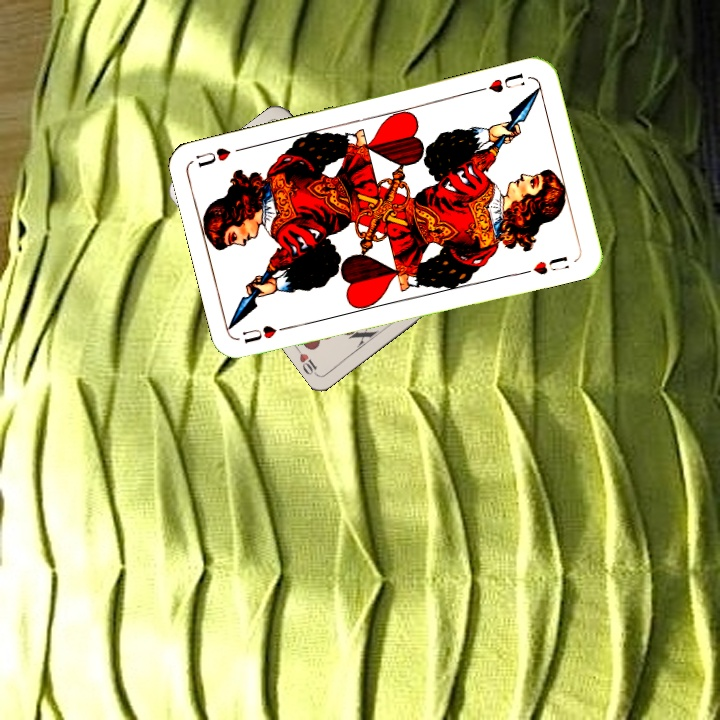HU: (238, 321, 295, 346), (474, 69, 526, 95)
